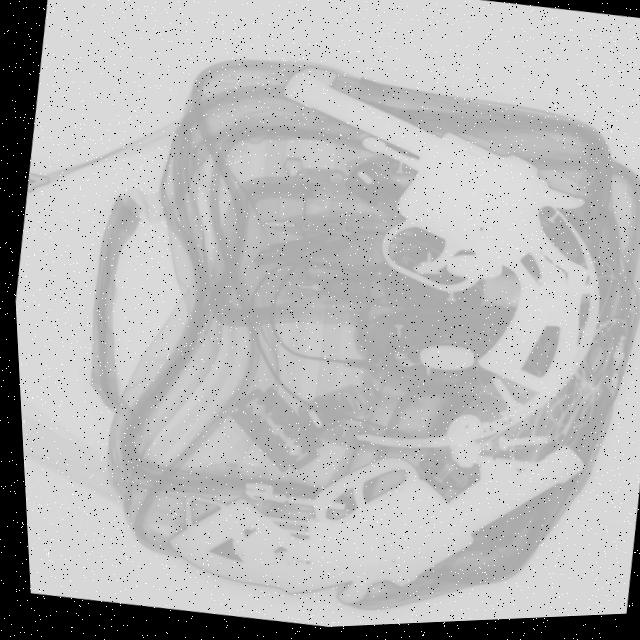pistol: (239, 56, 626, 413), (148, 387, 588, 635)
